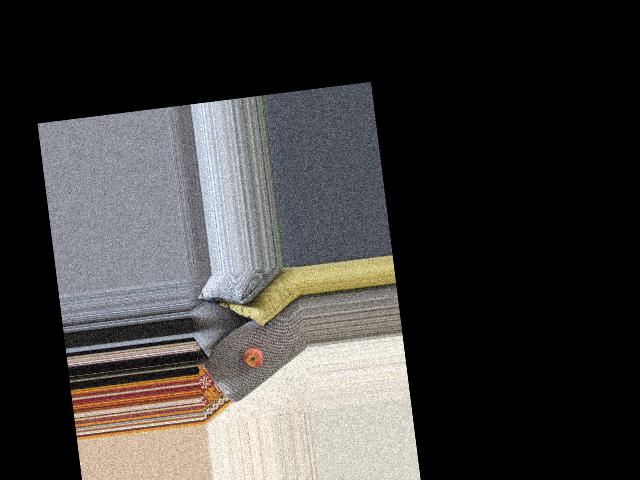apple: (240, 345, 264, 369)
